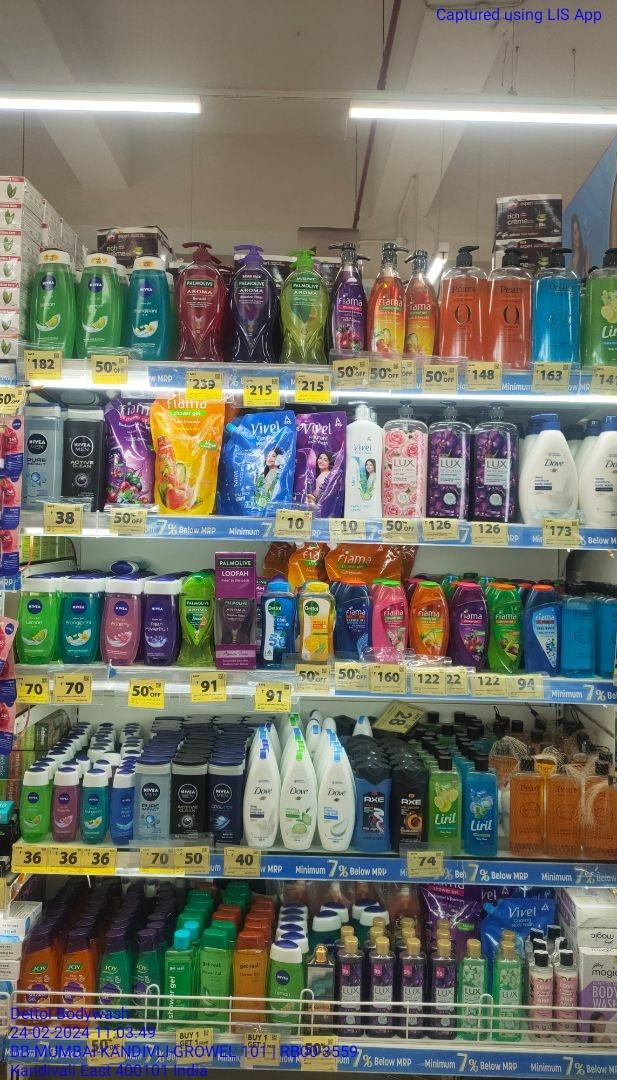Dettol_Bodywash_Cool: (260, 582, 296, 670)
Dettol_Bodywash_Refresh: (299, 584, 335, 667)
Dove_Deep_Moisture_Body_Wash_250ML: (245, 755, 280, 848)
Dove_Gentle_Exfoliating_Body_Wash_250ML: (319, 756, 354, 850)
Dove_Refreshing_Body_Wash_250ML: (281, 755, 316, 849)
Fiama_Shower_Gel_Lemongrass_and_Jojoba_250ML: (488, 587, 521, 671)
Fiama_Shower_Gel_Patchouli_and_Macadamia_250ML: (373, 583, 409, 664)
Fiama_Shower_Gel_Peach_and_Avocado_250ML: (411, 584, 449, 662)
Get_Real_Shower_Gel_Moisturising_Glycerin_300ML: (234, 935, 268, 1029)
Joy_Shower_Gel_Mandarin_and_Lemongrass_250ML: (59, 937, 96, 1027), (20, 937, 56, 1025)
Joy_Shower_Gel_Mint_and_Eucalyptus_250ML: (97, 939, 131, 1032), (132, 937, 160, 1027)
Liril_Cooling_Mint_Body_Wash_250ML: (465, 759, 499, 856)
Liril_Lime_and_Tea_Tree_Oil_Body_Wash_250ML: (428, 760, 461, 852)
Lux_Black_Orchid_Scent_and_Juniper_Oil_Body_Wash_245ML: (367, 940, 397, 1037), (429, 943, 457, 1040), (337, 941, 364, 1037), (399, 941, 425, 1039)
Lux_Body_Wash_Skin_Detox_Freesia_Scent_and_Alove_Vera_245ML: (492, 945, 524, 1041), (458, 943, 485, 1039)
Nivea_Shower_Gel_Frangipani_and_Oil_250ML: (127, 256, 172, 359), (61, 582, 98, 662), (79, 772, 107, 844)
Nivea_Shower_Gel_Fresh_Powerfruit_250ML: (141, 584, 179, 665)
Nivea_Shower_Gel_Lemon_and_Oil_250ML: (32, 252, 75, 362), (80, 256, 122, 354), (20, 581, 58, 667), (269, 943, 302, 1034), (19, 772, 49, 841)
Nivea_Shower_Gel_Waterlily_and_Oil_250ML: (103, 584, 140, 665), (51, 772, 77, 844)
Palmolive_Aroma_Morning_Tonic_Shower_Gel_250ML: (180, 578, 215, 668)
Pears_Pure_Glycerin_and_Mint_Extracts_Body_Wash_250ML: (561, 583, 596, 676)
